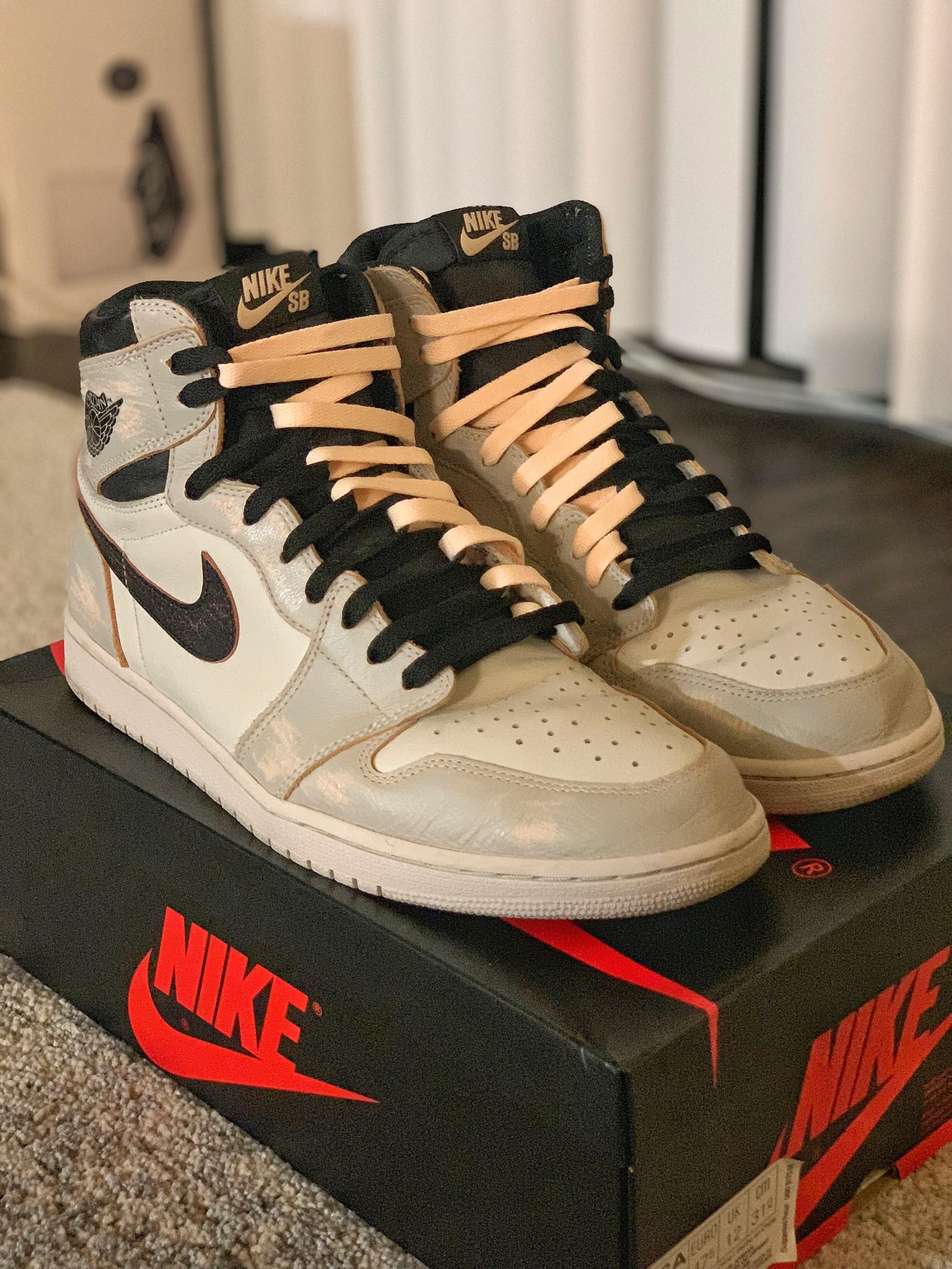sneaker: (62, 247, 778, 921), (334, 197, 951, 821)
